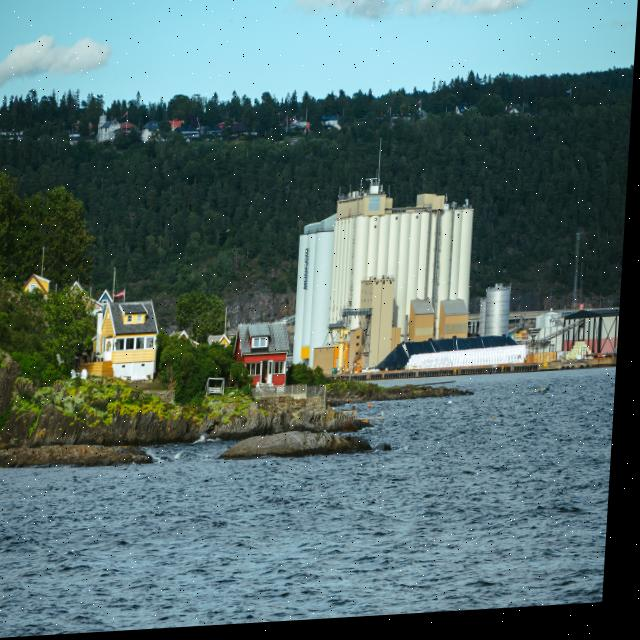building: (290, 178, 519, 381), (95, 298, 162, 384), (229, 316, 293, 390)
